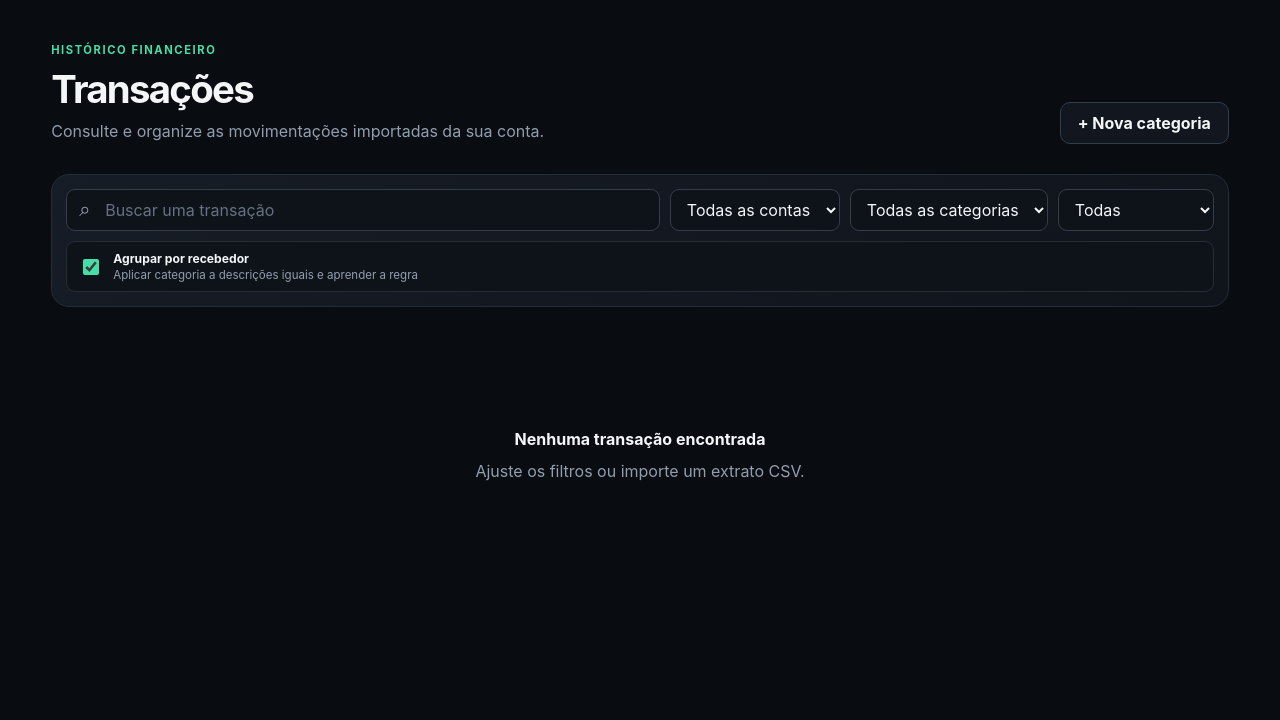
Test case: TransactionsPage › cria categoria e mantém o agrupamento por recebedor explícito
expect the text "Nenhuma transação encontrada" is shown: met, box [514,429,765,449]
expect the checkbox labelled "Agrupar por recebedor" is checked: met, box [83,259,99,275]
Click the button "+ Nova categoria": coordinates (1144, 123) [1060,102,1229,144]
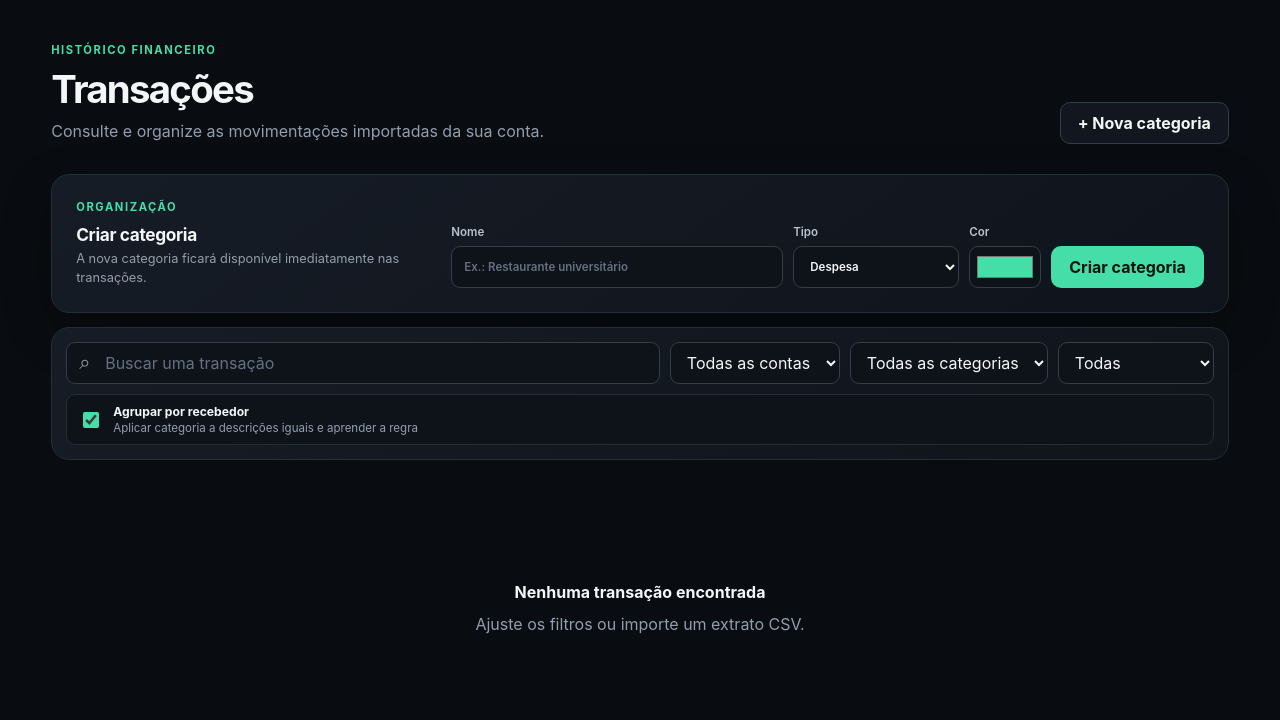
In the field labelled "Nome": coordinates (617, 267) [451,246,783,288], type "Restaurante universitário"
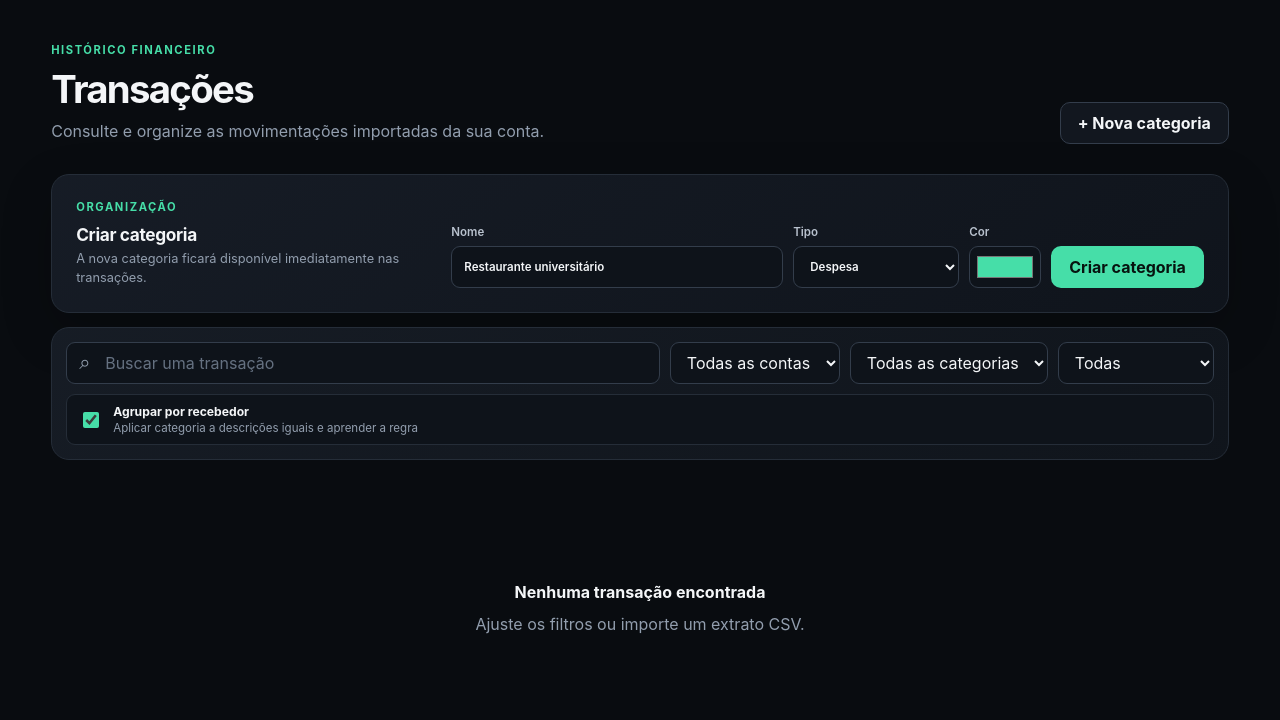
Click the button "Criar categoria": coordinates (1128, 267) [1051,246,1204,288]
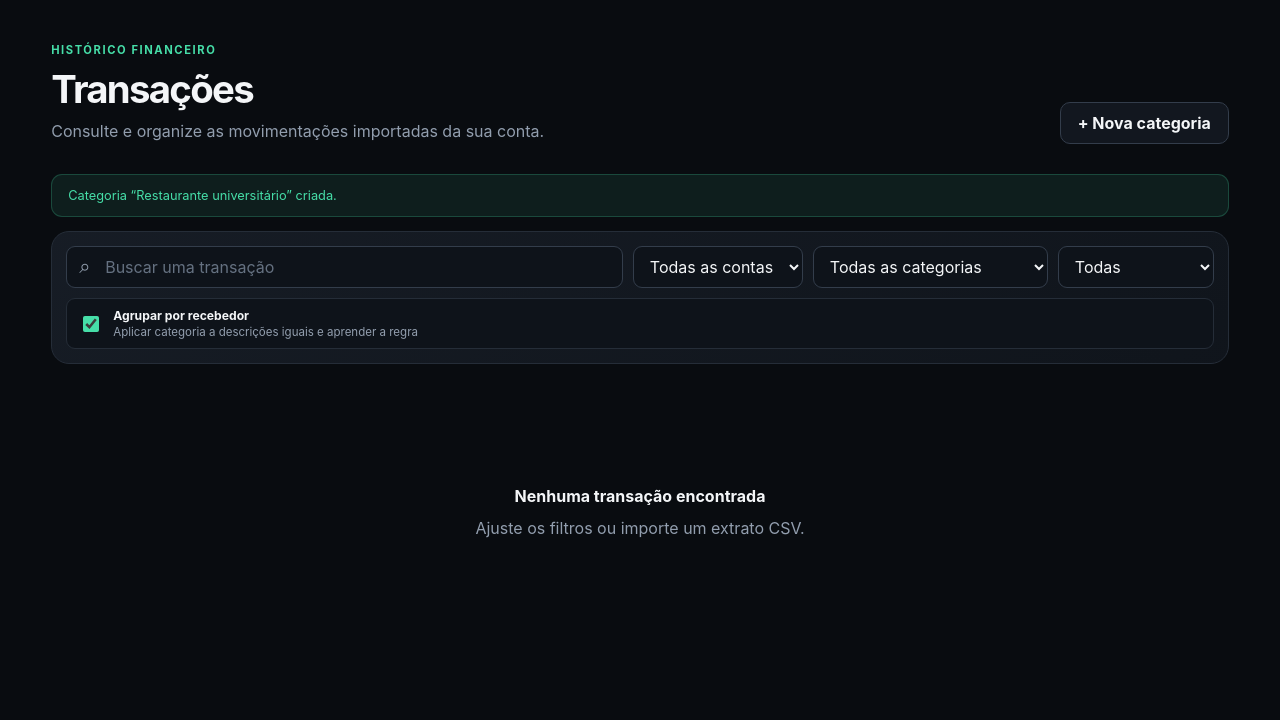
expect the text "Categoria “Restaurante universitário” criada." is shown: met, box [51,174,1229,217]
